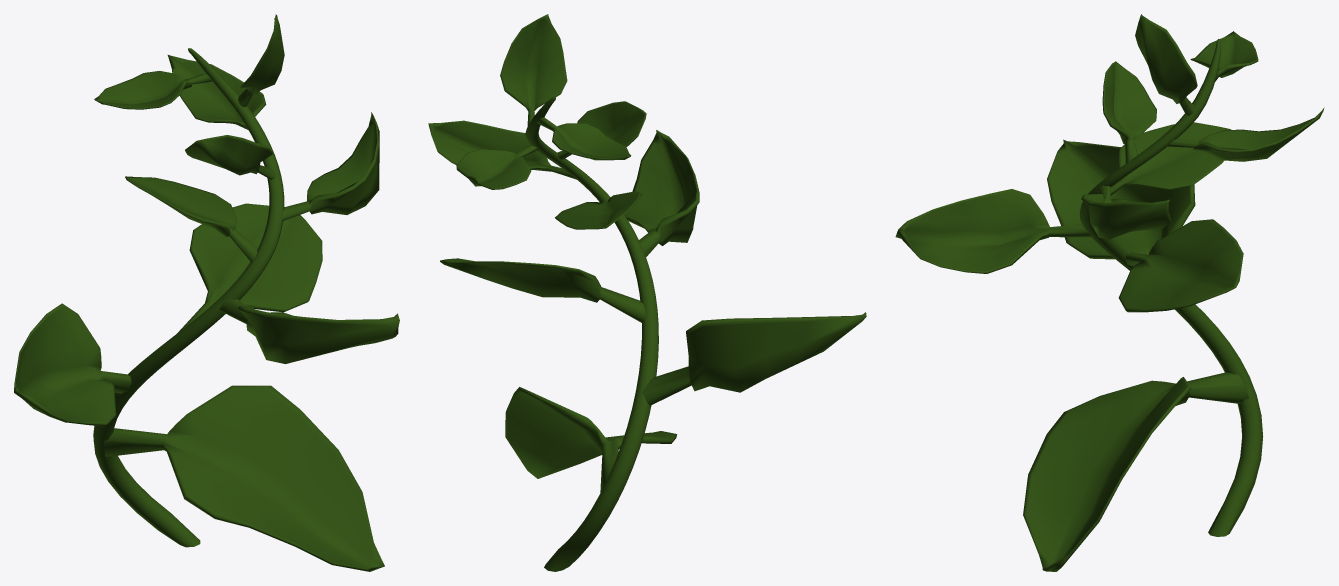
Rendered from Plant1.fbx.
3 renders of one model, left to right at view 1: azimuth 30°, elevation 25°; view 2: azimuth 150°, elevation 25°; view 3: azimuth 270°, elevation 25°, orthographic. The views are drawn at different scales.
Visible parts, largest first — view 1: Plant1; view 2: Plant1; view 3: Plant1.
Boxes of the visible parts, x1,y1,x2,y2 form: Plant1: (14,14,399,571); Plant1: (428,14,866,571); Plant1: (895,14,1324,571).
Size of the model in its own units: 174 by 221 by 158.
